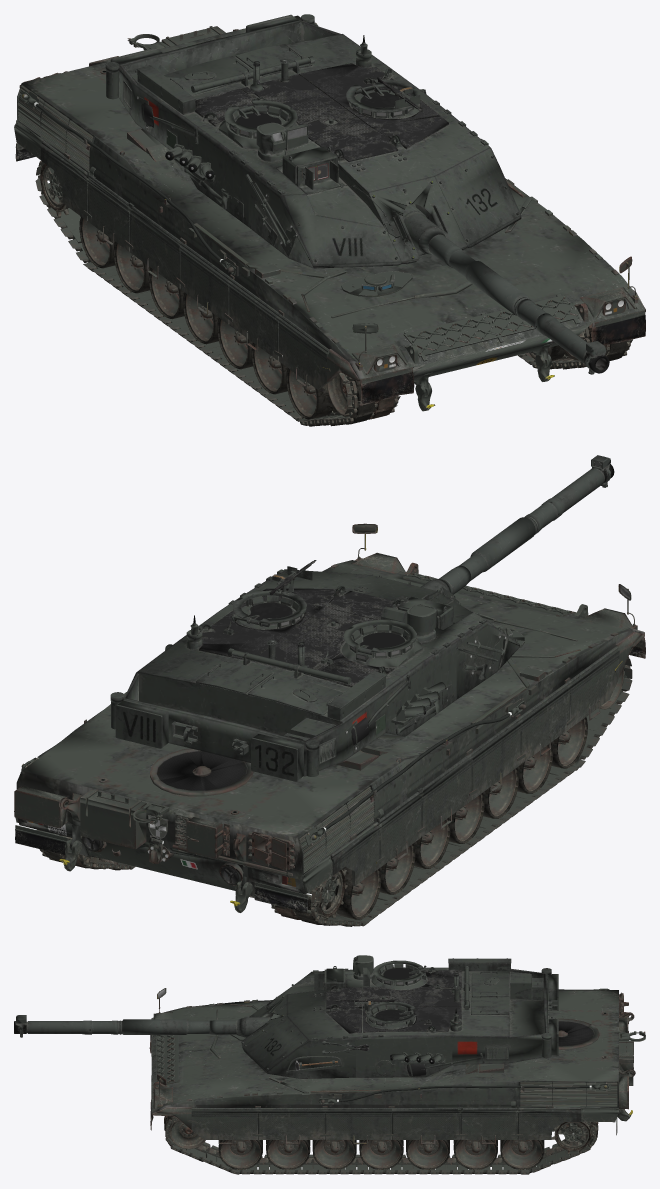
File: ariete-dustymojito.glb
The picture shows the model from 3 angles, top to bottom: view 1: azimuth 30°, elevation 25°; view 2: azimuth 150°, elevation 25°; view 3: azimuth 270°, elevation 25°; orthographic projection. The views are drawn at different scales.
Visible parts, largest first — view 1: polySurface4240, initialShadingGrouppCylinder1, polySurface4680, polySurface4671, polySurface4647; view 2: polySurface4240, polySurface4680, polySurface4671, initialShadingGrouppCylinder1, polySurface4647; view 3: polySurface4240, initialShadingGrouppCylinder1, polySurface4680, polySurface4647, polySurface4671.
Part boxes in pixels (left/top/right/bottom): polySurface4240: left=17, top=15, right=644, bottom=389; initialShadingGrouppCylinder1: left=118, top=20, right=609, bottom=374; polySurface4680: left=105, top=14, right=519, bottom=262; polySurface4671: left=14, top=22, right=645, bottom=411; polySurface4647: left=35, top=161, right=632, bottom=426; polySurface4240: left=16, top=560, right=644, bottom=897; polySurface4680: left=110, top=560, right=517, bottom=781; polySurface4671: left=14, top=523, right=645, bottom=912; initialShadingGrouppCylinder1: left=123, top=455, right=614, bottom=776; polySurface4647: left=37, top=656, right=632, bottom=926; polySurface4240: left=151, top=989, right=618, bottom=1139; initialShadingGrouppCylinder1: left=14, top=967, right=547, bottom=1078; polySurface4680: left=241, top=955, right=558, bottom=1077; polySurface4647: left=164, top=1116, right=598, bottom=1174; polySurface4671: left=149, top=988, right=645, bottom=1144.
Size of the model in its own units: 3.84 by 2.69 by 10.32.
Materials: 5 (5 with a texture image).
